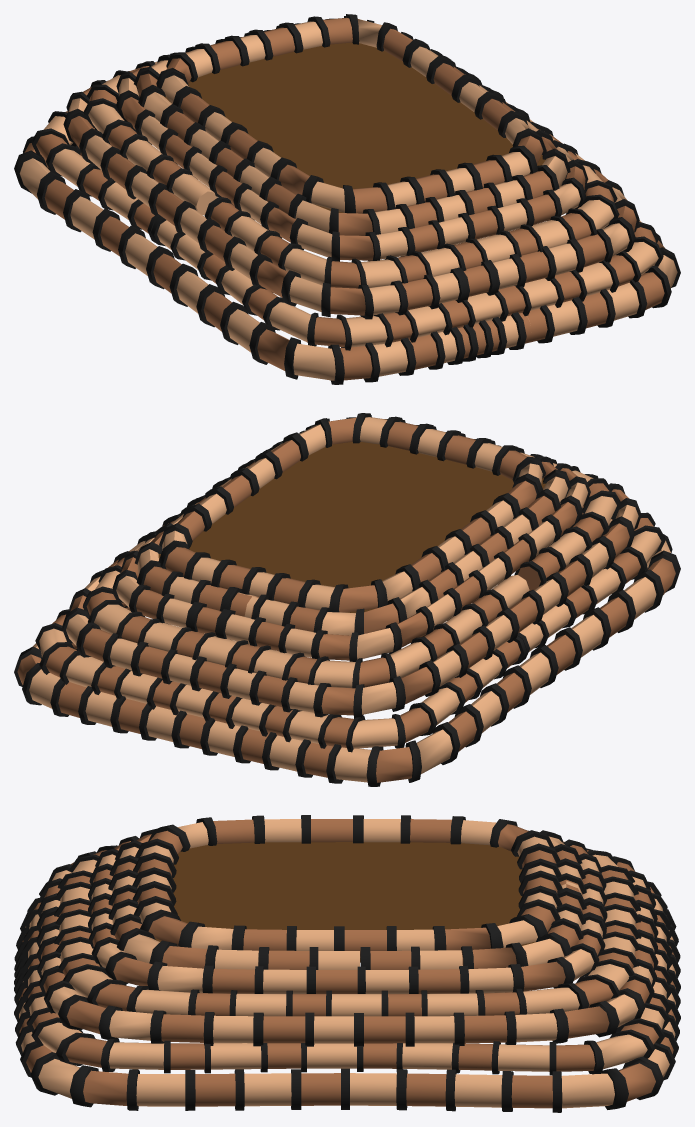
File: BasketRectTest.fbx
3 renders of one model, top to bottom at view 1: azimuth 30°, elevation 25°; view 2: azimuth 150°, elevation 25°; view 3: azimuth 270°, elevation 25°, orthographic. The views are drawn at different scales.
Parts seen in each view (by area): view 1: Cube.001, Cylinder.007, Cylinder.013, Cylinder.008, Cylinder.009, Cylinder.010, Cylinder.011, Cylinder.012; view 2: Cube.001, Cylinder.007, Cylinder.013, Cylinder.008, Cylinder.009, Cylinder.010, Cylinder.011, Cylinder.012; view 3: Cube.001, Cylinder.007, Cylinder.013, Cylinder.009, Cylinder.008, Cylinder.010, Cylinder.011, Cylinder.012.
Boxes of the visible parts, x1,y1,x2,y2 form: Cube.001: (164,42,545,212); Cylinder.007: (14,130,680,384); Cylinder.013: (156,14,546,213); Cylinder.008: (31,111,663,350); Cylinder.009: (63,55,639,319); Cylinder.010: (83,46,619,288); Cylinder.011: (116,18,588,261); Cylinder.012: (134,16,570,235); Cube.001: (158,442,546,612); Cylinder.007: (14,534,680,786); Cylinder.013: (158,413,545,612); Cylinder.008: (35,512,665,752); Cylinder.009: (62,447,641,718); Cylinder.010: (83,430,620,688); Cylinder.011: (112,417,590,661); Cylinder.012: (135,415,571,635); Cube.001: (155,842,536,962); Cylinder.007: (14,897,680,1112); Cylinder.013: (132,815,562,957); Cylinder.009: (36,848,658,1046); Cylinder.008: (22,881,672,1075); Cylinder.010: (54,845,641,1016); Cylinder.011: (88,830,607,993); Cylinder.012: (108,828,586,969).
Size of the model in its own units: 233 by 74.95 by 314.
